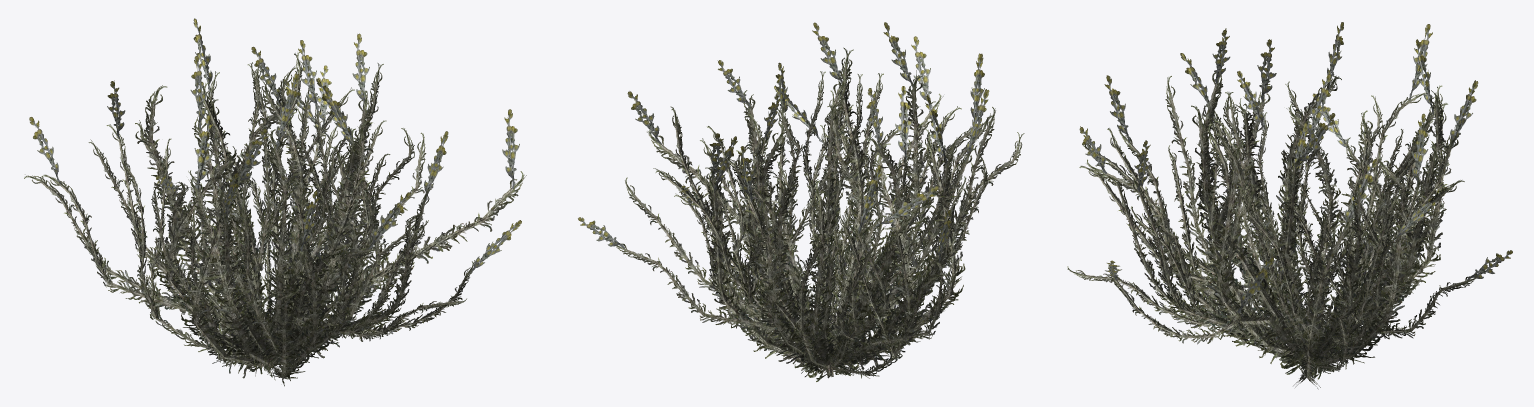
File: runtime-scalesia.glb
3 views of the same model, side by side, from view 1: azimuth 30°, elevation 25°; view 2: azimuth 150°, elevation 25°; view 3: azimuth 270°, elevation 25° (orthographic). The views are drawn at different scales.
Parts seen in each view (by area): view 1: Sagebrush_Bush_Low; view 2: Sagebrush_Bush_Low; view 3: Sagebrush_Bush_Low.
Part boxes in pixels (x1,y1,x2,y2): Sagebrush_Bush_Low: (24,18,526,386); Sagebrush_Bush_Low: (578,22,1024,381); Sagebrush_Bush_Low: (1067,22,1512,389).
Bounding box in the file's own units: 2.49 × 1.97 × 2.32.
2 materials, 2 textured.
